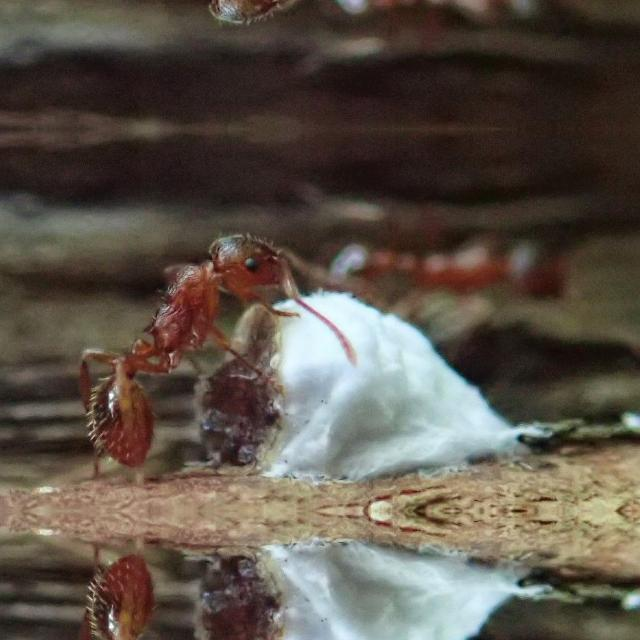Myrmica: (50, 188, 338, 484), (50, 536, 336, 640), (50, 0, 336, 68)
